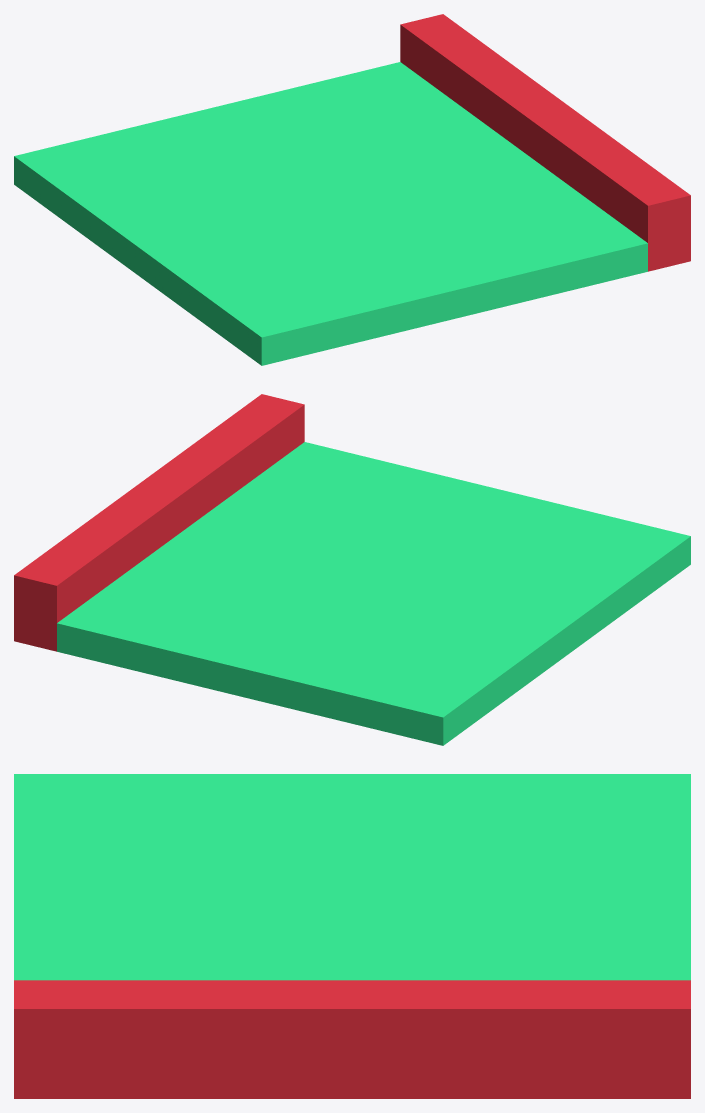
The model's file is side.fbx.
The picture shows the model from 3 angles, top to bottom: view 1: azimuth 30°, elevation 25°; view 2: azimuth 150°, elevation 25°; view 3: azimuth 270°, elevation 25°; orthographic projection. The views are drawn at different scales.
Parts seen in each view (by area): view 1: side; view 2: side; view 3: side.
Boxes of the visible parts, box(x1,y1,x2,y2) form: side: box(14, 14, 690, 365); side: box(14, 394, 690, 745); side: box(14, 774, 690, 1098).
Size of the model in its own units: 10 by 1.47 by 10.
